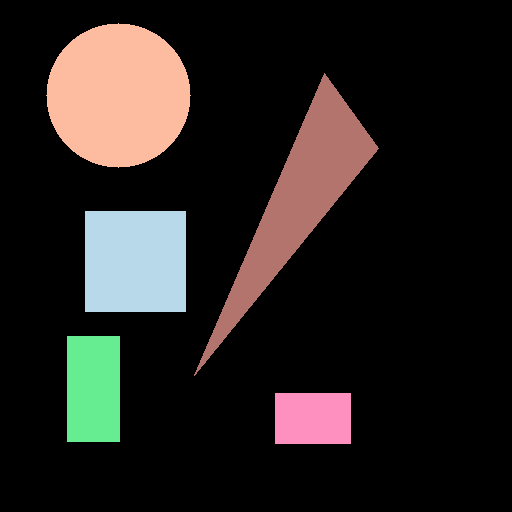circle: (46, 23, 190, 167)
rectangle: (67, 336, 119, 441), (275, 393, 350, 443)
square: (85, 211, 185, 311)
triangle: (194, 73, 378, 375)
